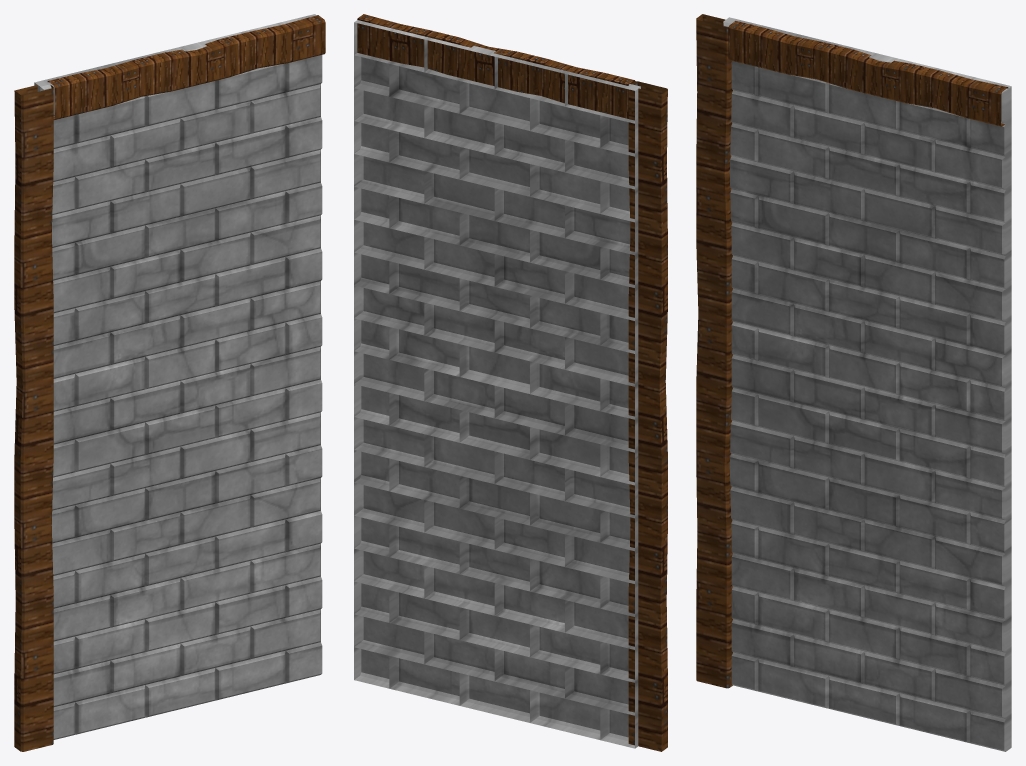
The model's file is Parede 2.fbx.
3 renders of one model, left to right at view 1: azimuth 30°, elevation 25°; view 2: azimuth 150°, elevation 25°; view 3: azimuth 330°, elevation 25°, orthographic.
Visible parts, largest first — view 1: Parede.001; view 2: Parede.001; view 3: Parede.001.
Part boxes in pixels (box(x1,y1,x2,y2)): Parede.001: box(14, 14, 325, 751); Parede.001: box(354, 14, 667, 751); Parede.001: box(696, 14, 1011, 751).
Size of the model in its own units: 805 by 1667 by 48.57.
Materials: 1 (1 with a texture image).
